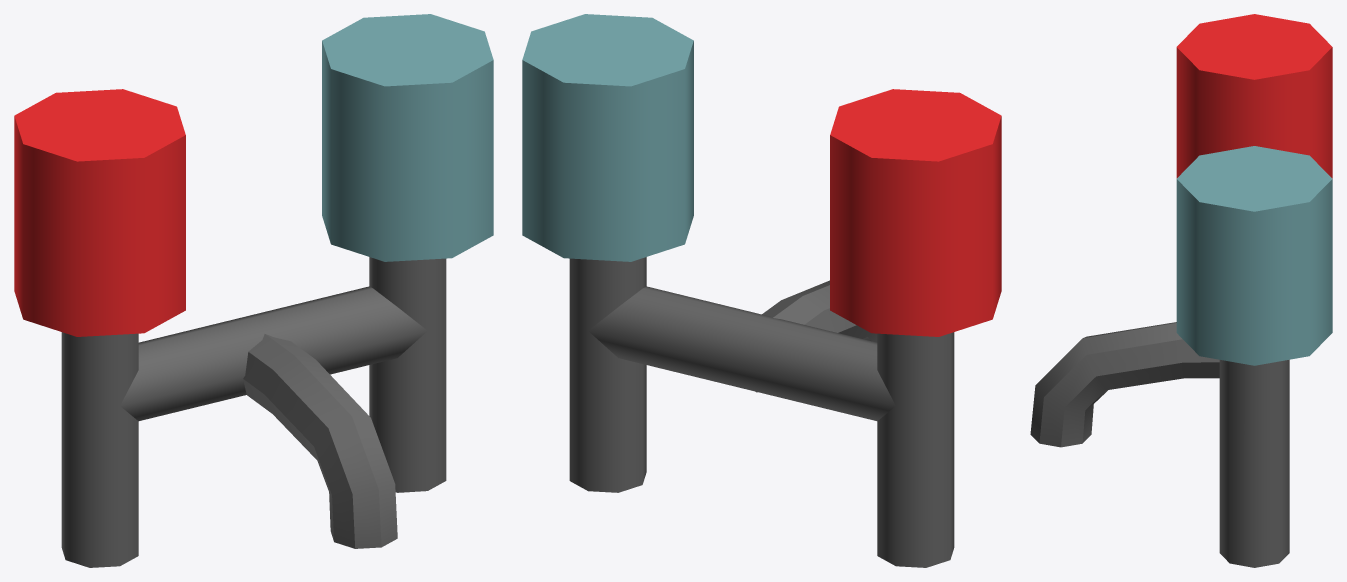
File: Itr_Bath_Tap_01.FBX
3 views of the same model, side by side, from view 1: azimuth 30°, elevation 25°; view 2: azimuth 150°, elevation 25°; view 3: azimuth 270°, elevation 25° (orthographic). The views are drawn at different scales.
Visible parts, largest first — view 1: Itr_Bath_Tap_01; view 2: Itr_Bath_Tap_01; view 3: Itr_Bath_Tap_01.
Boxes of the visible parts, <box> form: Itr_Bath_Tap_01: <box>14,14,493,567</box>; Itr_Bath_Tap_01: <box>522,14,1001,567</box>; Itr_Bath_Tap_01: <box>1030,14,1332,567</box>.
Bounding box in the file's own units: 8.06 × 7.12 × 5.2.
